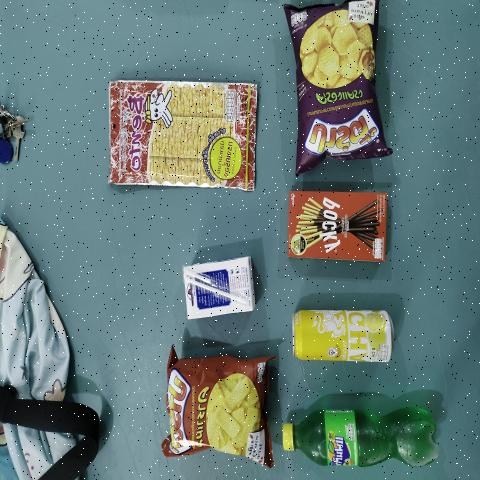bento_red: (111, 86, 258, 184)
fanta_green: (283, 403, 445, 467)
party_purple: (300, 0, 383, 171)
party_red: (168, 364, 262, 456)
pokki: (284, 186, 390, 265)
singha_yellow: (291, 304, 397, 367)
thai_denmark: (186, 255, 253, 322)
